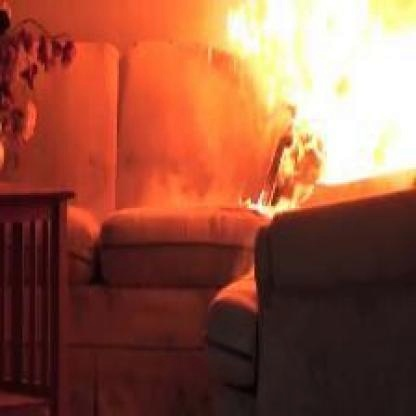fire: (207, 0, 416, 217)
